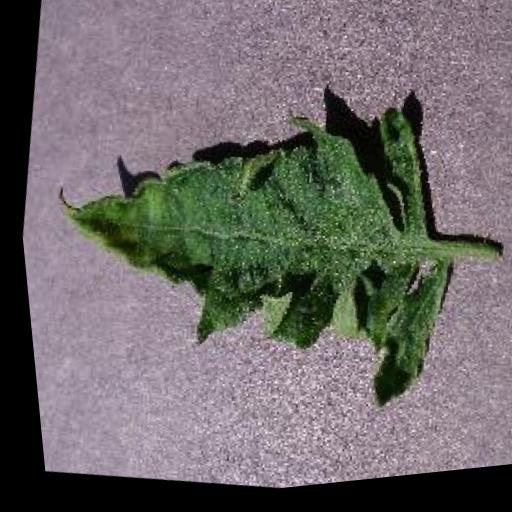Mosaic Virus: (10, 54, 484, 455)
